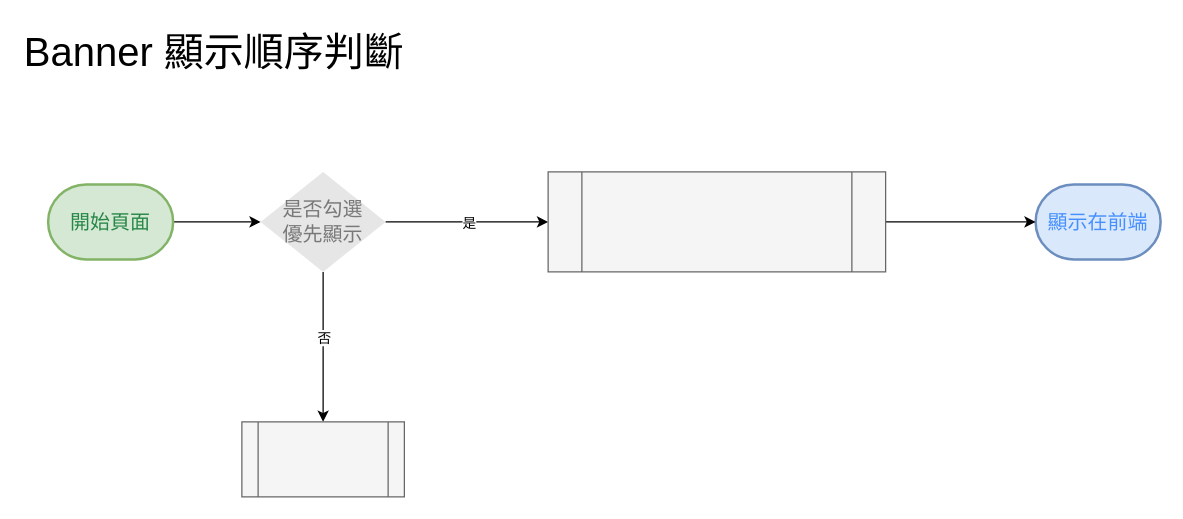
The diagram is 1183 pixels wide and 519 high, and some of its shapes have lost their labels. Here are the shapes that lost their labels. From the top down, the box of each, then its label:
(547, 171, 886, 272): 1. 勾選優先顯示的作為第一張 2. 其餘按照上傳時間倒序顯示
(241, 421, 404, 497): 按照上傳時間 倒序顯示
